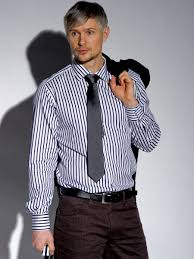striped: (25, 55, 162, 229)
tie: (82, 72, 110, 183)
